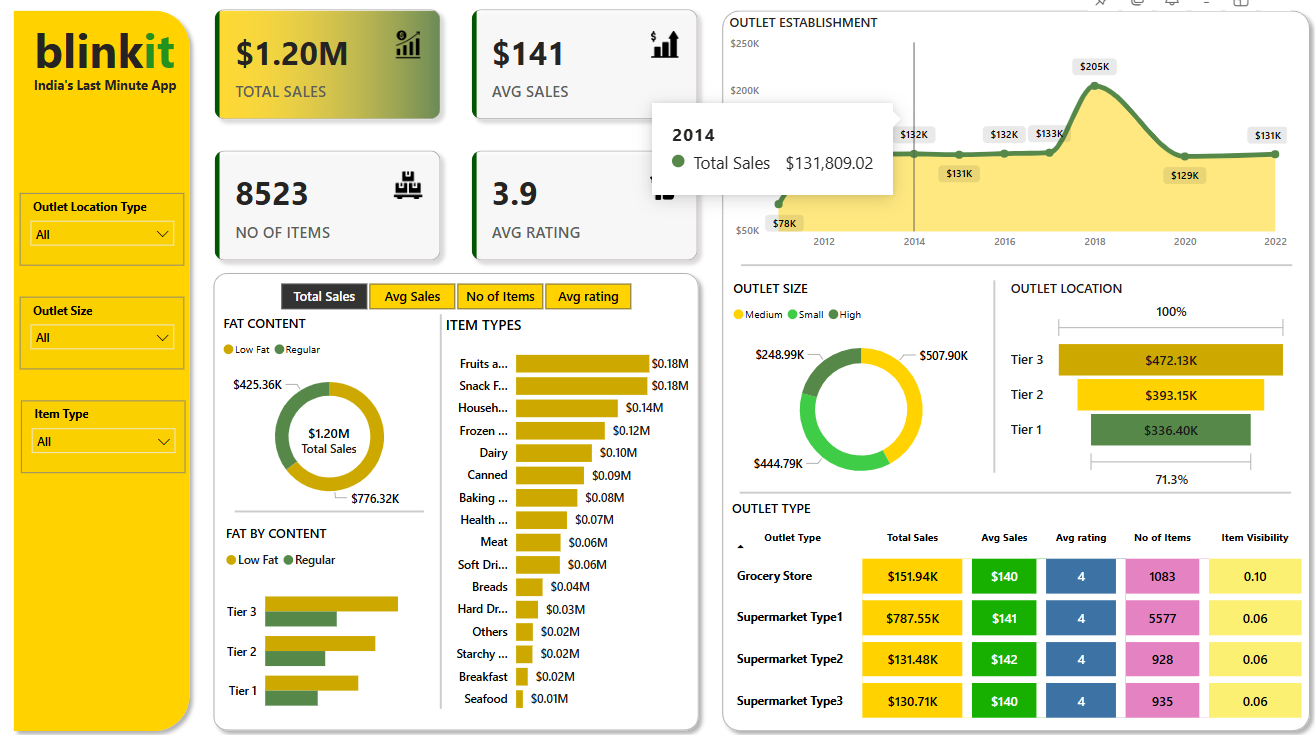

The page's visual inventory and layout, read from the dashboard file:
{"tool":"powerbi","page":{"name":"Page 1","canvas":[1400,800],"ordinal":0},"visuals":[{"type":"shape","box":[24.5,24.5,200.4,764.8],"z":0},{"type":"textbox","box":[31.4,36.8,193.6,76.3],"z":1000},{"type":"textbox","box":[46.4,96.8,163.6,31.4],"z":2000},{"type":"cardVisual","fields":{"Data":["BlinkIT Grocery Data.Total Sales","BlinkIT Grocery Data.Average Sales","BlinkIT Grocery Data.No of Items","BlinkIT Grocery Data.Avg rating"]},"box":[225,15,534.4,294.5],"z":3000},{"type":"shape","box":[231.8,297.2,520.8,492.2],"z":4000},{"type":"donutChart","title":"FAT CONTENT","fields":{"Y":["BlinkIT Grocery Data.Total Sales"],"Category":["BlinkIT Grocery Data.Item Fat Content"]},"box":[246.8,349,230.4,208.6],"z":5000},{"type":"slicer","fields":{"Values":["Matrics.Matrics"]},"box":[284.9,309.5,413.1,39.5],"z":6000},{"type":"cardVisual","fields":{"Data":["BlinkIT Grocery Data.Total Sales"]},"box":[313.6,444.4,94.1,68.2],"z":7000},{"type":"clusteredBarChart","title":"FAT BY CONTENT","fields":{"Y":["BlinkIT Grocery Data.Total Sales"],"Category":["BlinkIT Grocery Data.Outlet Location Type"],"Series":["BlinkIT Grocery Data.Item Fat Content"]},"box":[248.1,565.8,230.4,211.3],"z":8000},{"type":"shape","box":[263.1,545.3,196.3,15],"z":9000},{"type":"shape","box":[467.6,349,17.7,409],"z":10000},{"type":"barChart","title":"ITEM TYPES","fields":{"Y":["BlinkIT Grocery Data.Total Sales"],"Category":["BlinkIT Grocery Data.Item Type"]},"box":[477.2,349,261.8,422.6],"z":11000},{"type":"shape","box":[759.4,24.5,627.1,764.8],"z":12000},{"type":"lineChart","title":"OUTLET ESTABLISHMENT","fields":{"Y":["BlinkIT Grocery Data.Total Sales"],"Category":["BlinkIT Grocery Data.Outlet Establishment Year"]},"box":[770.3,36.8,587.6,253.6],"z":13000},{"type":"shape","box":[788,291.8,571.2,12.3],"z":14000},{"type":"donutChart","title":"OUTLET SIZE","fields":{"Category":["BlinkIT Grocery Data.Outlet Size"],"Y":["BlinkIT Grocery Data.Total Sales"]},"box":[774.4,312.2,275.4,225],"z":15000},{"type":"shape","box":[1045.7,313.6,9.5,199],"z":16000},{"type":"funnel","title":"OUTLET LOCATION","fields":{"Category":["BlinkIT Grocery Data.Outlet Location Type"],"Y":["BlinkIT Grocery Data.Total Sales"]},"box":[1062,312.2,297.2,222.2],"z":17000},{"type":"shape","box":[786.6,527.6,571.2,12.3],"z":18000},{"type":"pivotTable","title":"OUTLET TYPE","fields":{"Rows":["BlinkIT Grocery Data.Outlet Type"],"Values":["BlinkIT Grocery Data.Total Sales","BlinkIT Grocery Data.Avg Sales","BlinkIT Grocery Data.Avg rating","BlinkIT Grocery Data.No of Items","Avg(BlinkIT Grocery Data.Item Visibility)"]},"box":[773,539.9,602.6,237.2],"z":19000},{"type":"slicer","fields":{"Values":["BlinkIT Grocery Data.Outlet Size"]},"box":[39.5,329.9,170.4,75],"z":20000},{"type":"slicer","fields":{"Values":["BlinkIT Grocery Data.Item Type"]},"box":[40.9,437.6,170.4,75],"z":21000},{"type":"slicer","fields":{"Values":["BlinkIT Grocery Data.Outlet Location Type"]},"box":[39.5,222.2,170.4,75],"z":22000}]}

Visuals, with their boxes in screenshot pixels (x1, y1, x2, y2), scaled from the page's 1400x800 canvas onto the 1315x735 screenshot:
shape: (left=23, top=23, right=211, bottom=725)
textbox: (left=29, top=34, right=211, bottom=104)
textbox: (left=44, top=89, right=197, bottom=118)
cardVisual - BlinkIT Grocery Data.Total Sales x BlinkIT Grocery Data.Average Sales: (left=211, top=14, right=713, bottom=284)
shape: (left=218, top=273, right=707, bottom=725)
"FAT CONTENT" donutChart: (left=232, top=321, right=448, bottom=512)
slicer - Matrics.Matrics: (left=268, top=284, right=656, bottom=321)
cardVisual - BlinkIT Grocery Data.Total Sales: (left=295, top=408, right=383, bottom=471)
"FAT BY CONTENT" clusteredBarChart: (left=233, top=520, right=449, bottom=714)
shape: (left=247, top=501, right=432, bottom=515)
shape: (left=439, top=321, right=456, bottom=696)
"ITEM TYPES" barChart: (left=448, top=321, right=694, bottom=709)
shape: (left=713, top=23, right=1302, bottom=725)
"OUTLET ESTABLISHMENT" lineChart: (left=724, top=34, right=1275, bottom=267)
shape: (left=740, top=268, right=1277, bottom=279)
"OUTLET SIZE" donutChart: (left=727, top=287, right=986, bottom=494)
shape: (left=982, top=288, right=991, bottom=471)
"OUTLET LOCATION" funnel: (left=998, top=287, right=1277, bottom=491)
shape: (left=739, top=485, right=1275, bottom=496)
"OUTLET TYPE" pivotTable: (left=726, top=496, right=1292, bottom=714)
slicer - BlinkIT Grocery Data.Outlet Size: (left=37, top=303, right=197, bottom=372)
slicer - BlinkIT Grocery Data.Item Type: (left=38, top=402, right=198, bottom=471)
slicer - BlinkIT Grocery Data.Outlet Location Type: (left=37, top=204, right=197, bottom=273)
